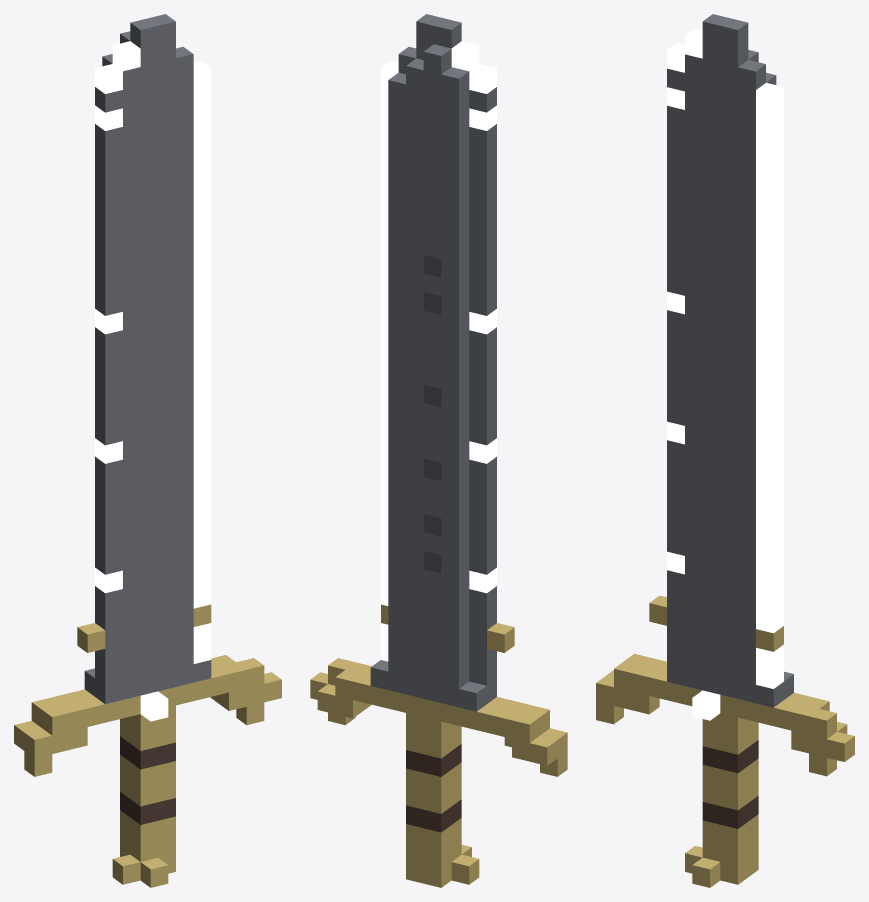
The model's file is greatsword_epic_lod1.glb.
The picture shows the model from 3 angles, left to right: view 1: azimuth 30°, elevation 25°; view 2: azimuth 150°, elevation 25°; view 3: azimuth 330°, elevation 25°; orthographic projection.
Parts seen in each view (by area): view 1: greatsword_epic_lod1; view 2: greatsword_epic_lod1; view 3: greatsword_epic_lod1.
Boxes of the visible parts, <box> form: greatsword_epic_lod1: <box>14,14,281,887</box>; greatsword_epic_lod1: <box>310,14,567,887</box>; greatsword_epic_lod1: <box>596,14,854,887</box>.
Size of the model in its own units: 0.42 by 1.38 by 0.09.
